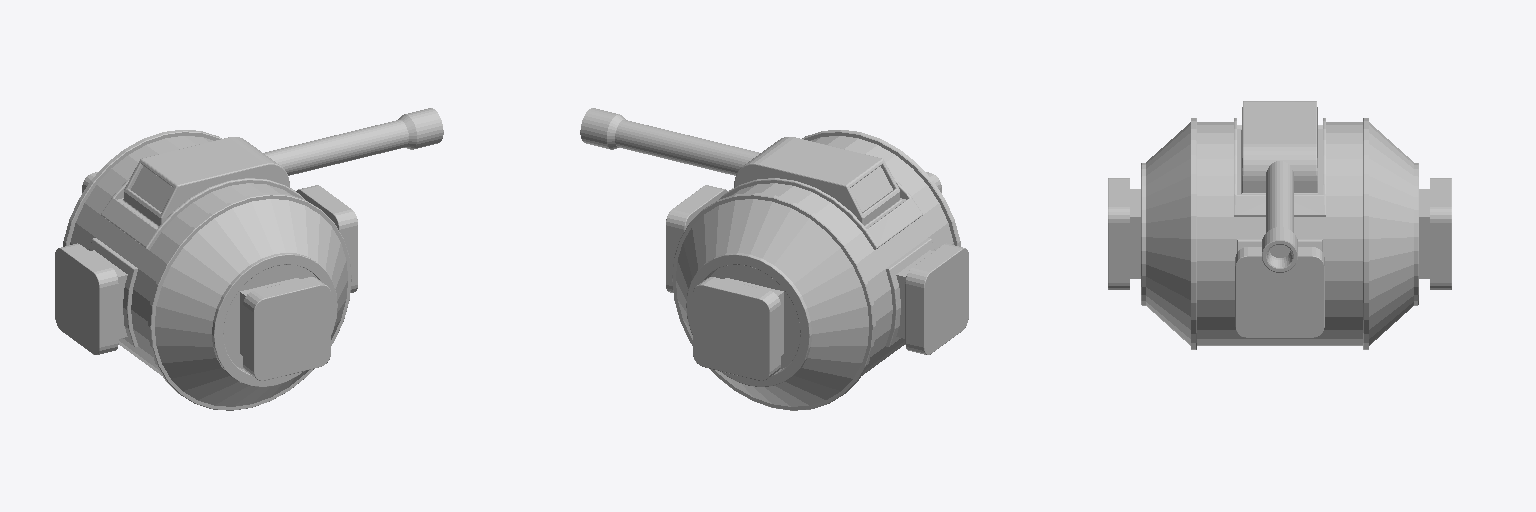
Rendered from cannon.obj.
The picture shows the model from 3 angles: view 1: azimuth 30°, elevation 25°; view 2: azimuth 150°, elevation 25°; view 3: azimuth 270°, elevation 25°; orthographic projection.
Parts seen in each view (by area): view 1: Cylinder.001; view 2: Cylinder.001; view 3: Cylinder.001.
Part boxes in pixels (left/top/right/bottom): Cylinder.001: left=55, top=108, right=443, bottom=410; Cylinder.001: left=580, top=108, right=968, bottom=410; Cylinder.001: left=1108, top=101, right=1451, bottom=349.
Bounding box in the file's own units: 1.85 × 1.06 × 1.54.